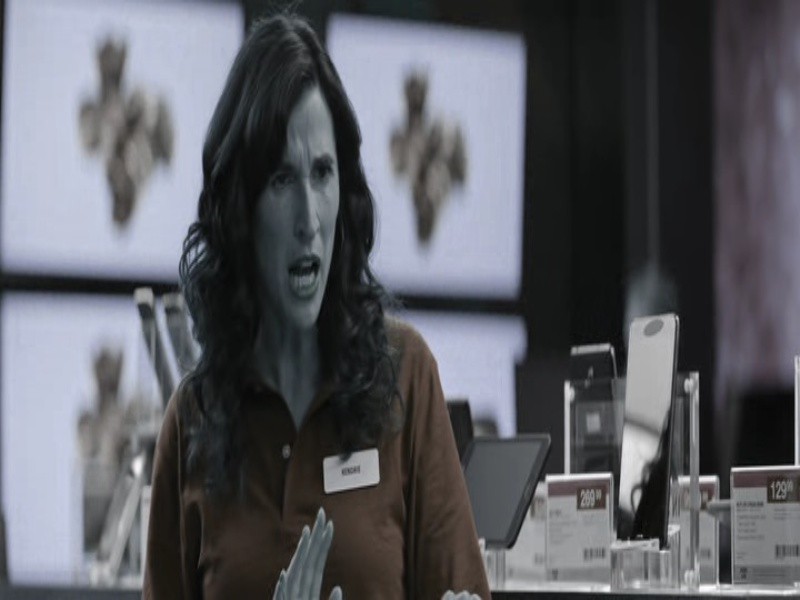TsisyArotava: (213, 79, 378, 342)
